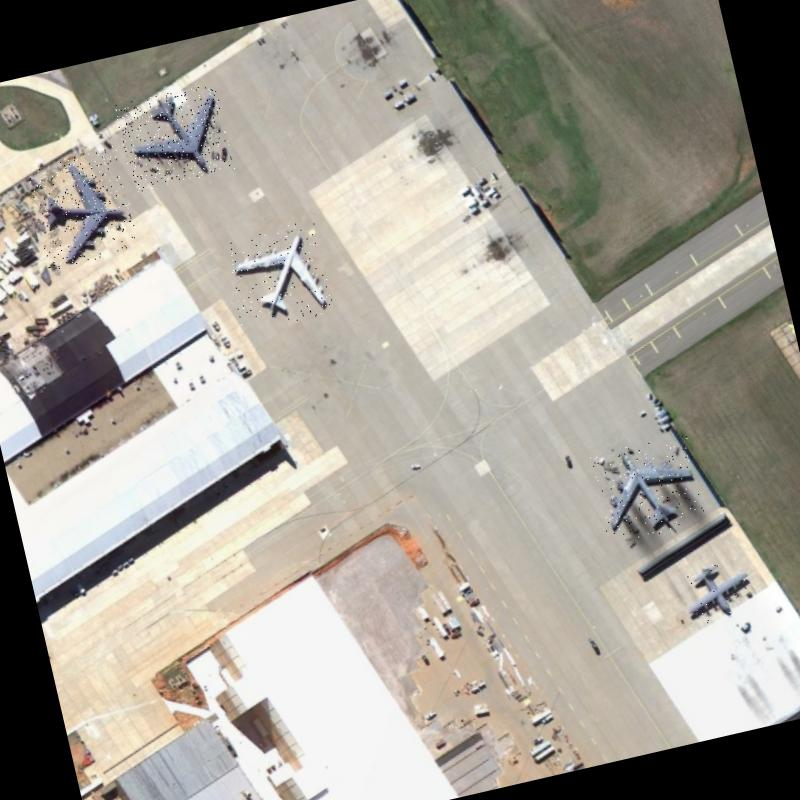A2: (673, 551, 760, 629)
A8: (24, 145, 140, 270), (113, 82, 235, 193), (588, 430, 706, 544), (222, 219, 334, 333)
